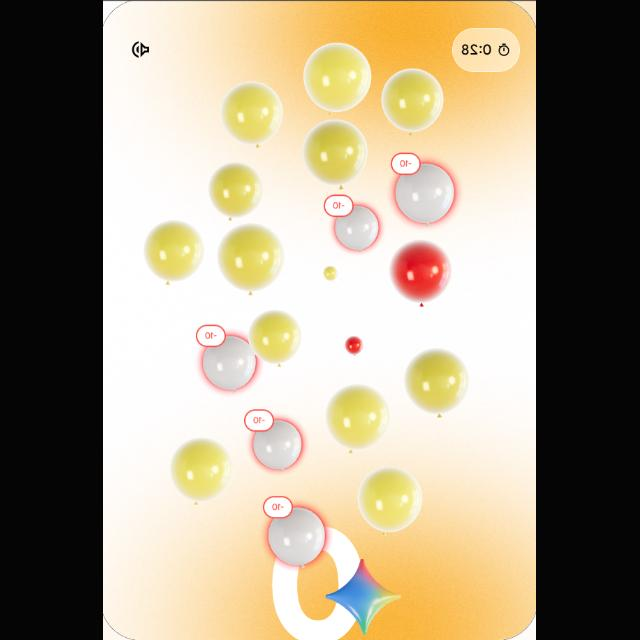gemini: (322, 555, 406, 640)
hazard: (387, 148, 457, 226), (260, 495, 328, 575), (196, 321, 256, 394), (245, 407, 302, 473), (324, 194, 380, 254)
safe: (304, 41, 374, 114), (218, 222, 286, 294), (359, 465, 425, 535), (304, 118, 370, 186), (406, 348, 470, 416), (328, 384, 392, 452), (221, 80, 285, 146), (382, 67, 446, 133), (389, 242, 451, 310), (172, 437, 234, 503), (144, 219, 206, 283), (248, 310, 304, 366), (210, 162, 264, 218), (346, 336, 364, 354), (322, 264, 340, 282)
